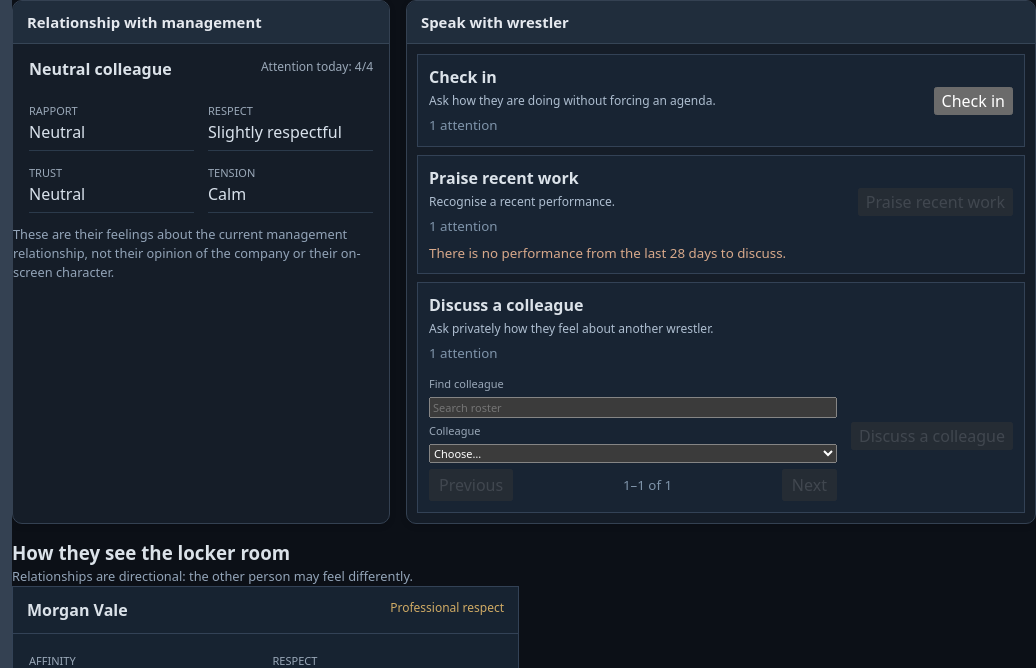
Test case: sends a contextual conversation and explains the returned response
Select "Morgan Vale · Professional respect" in the dropdown labelled "Colleague" at {"x": 633, "y": 454}, box [429,444,837,463]
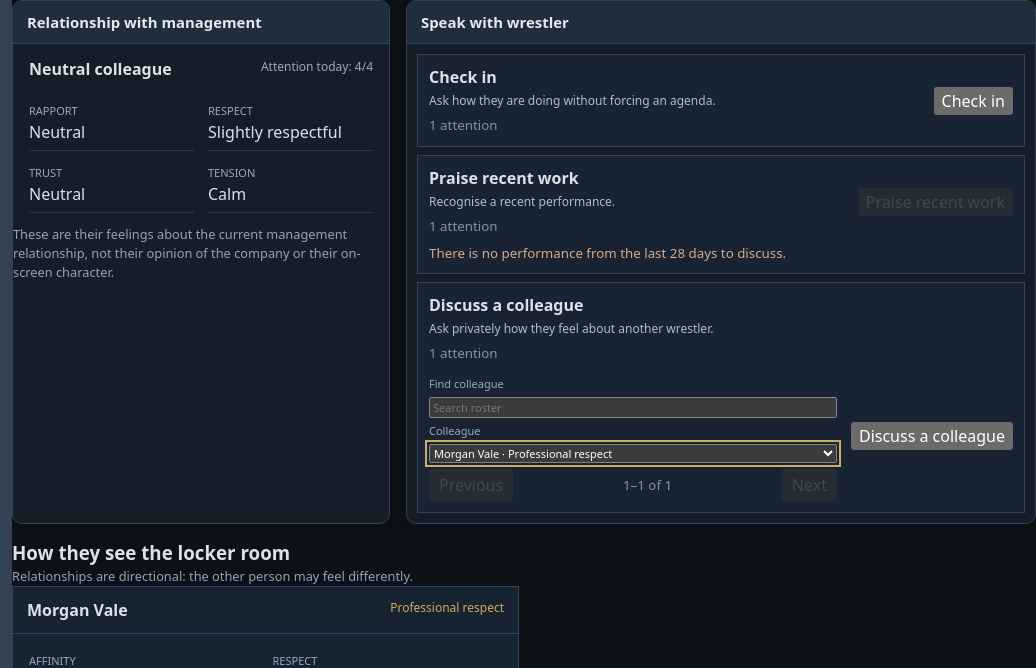
Click the button "Discuss a colleague".
click(932, 436)  # box [851,422,1013,450]
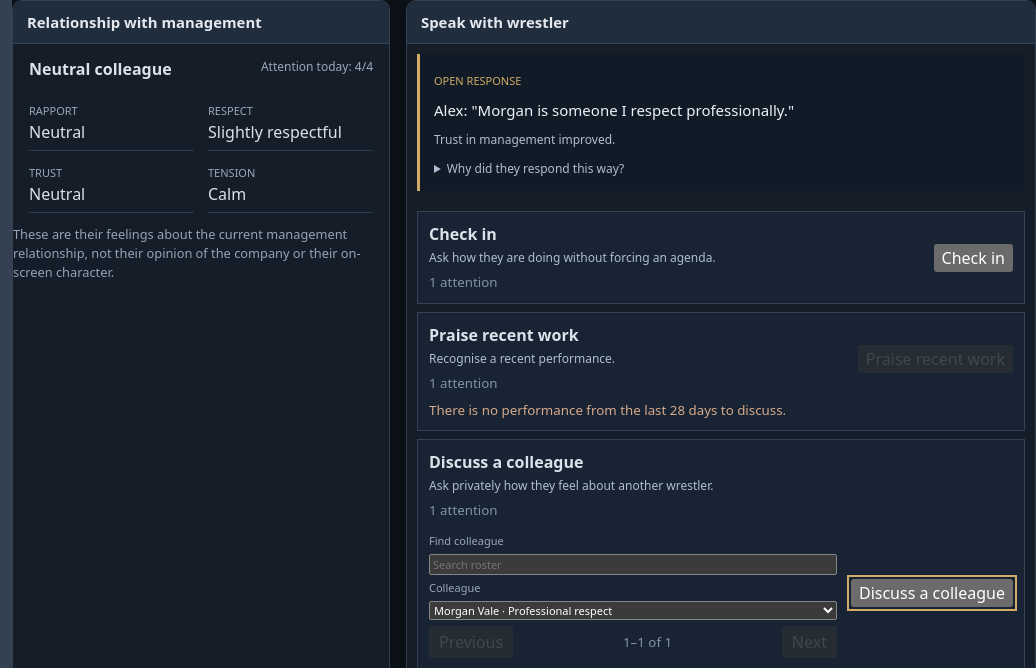
Check: the text "Alex: \"Morgan is someone I respect professionally.\"" is shown, box [434,100,794,120]
Click the heading "Why did they respond this way?".
click(535, 169)  # box [447,160,624,177]
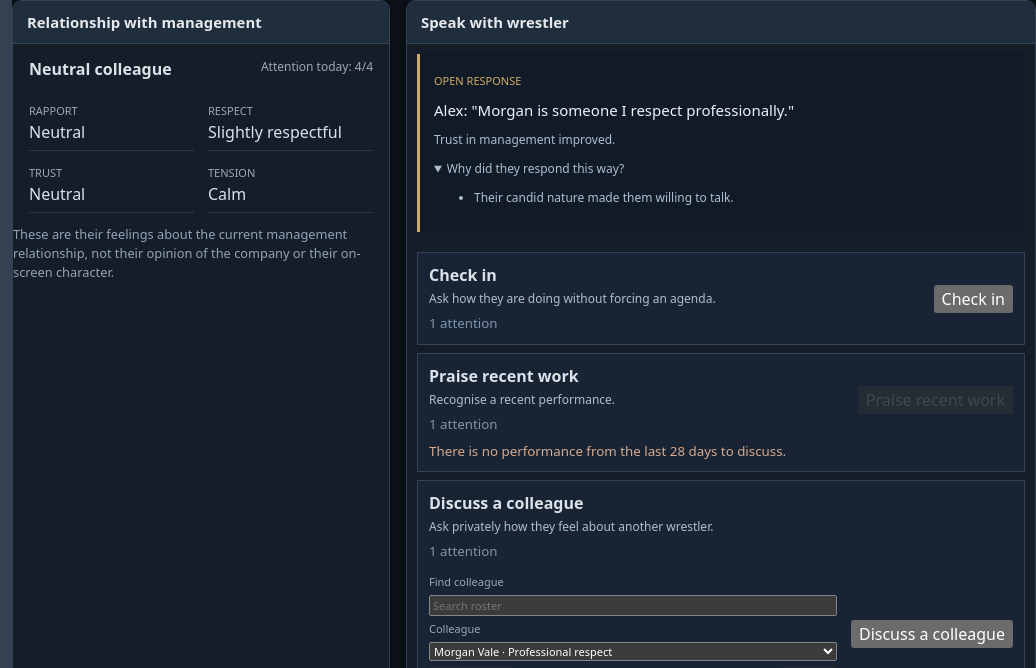
Check: the list item "Their candid nature made them willing to talk." is shown, box [474,189,734,206]
